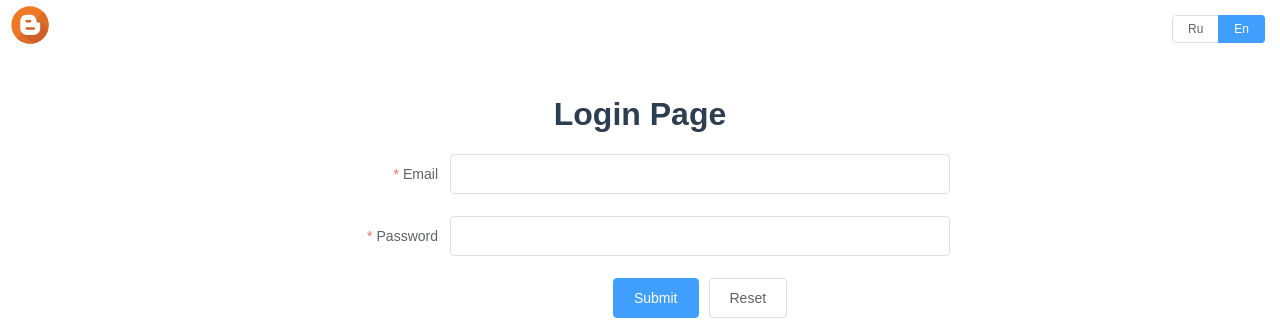
Scenario: Test login page › Test reset button
Step 1. Type "Hello world!" into the field with test id "email" → (700, 174), box [450,154,950,194]
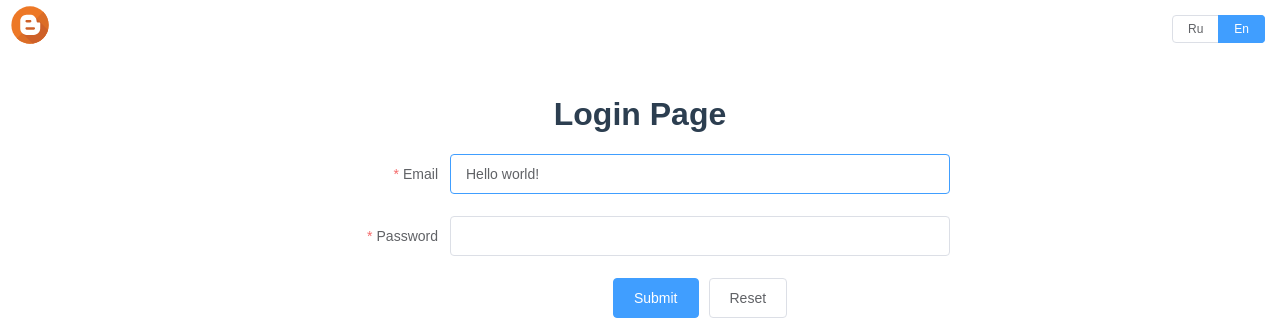
Step 2. Type "12345" into the password field with test id "password" → (700, 236), box [450,216,950,256]
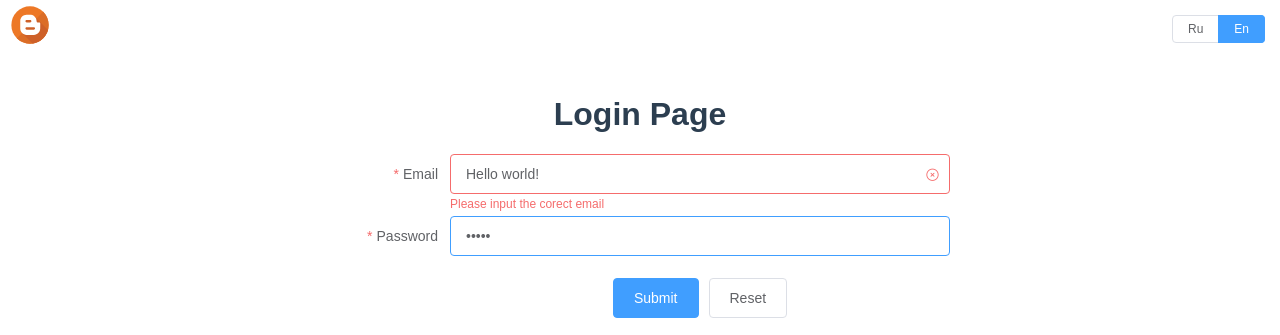
Step 3. Click the button with test id "reset" → (749, 298), box [709,278,788,318]
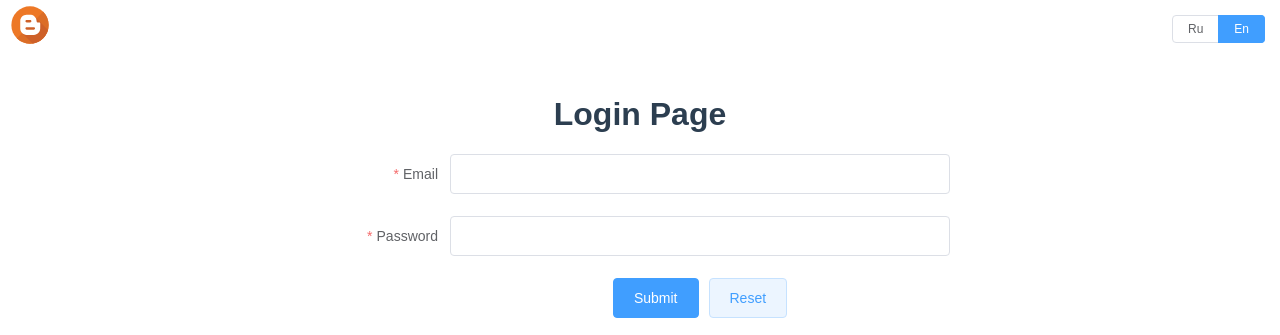
Result: the field with test id "email" is empty at [450,154,950,194]
Result: the password field with test id "password" is empty at [450,216,950,256]
